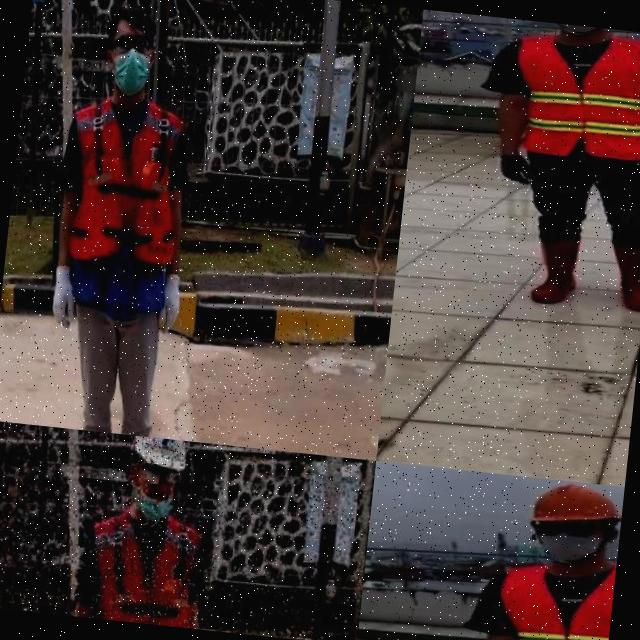boots: (524, 232, 582, 306), (601, 237, 640, 311)
helmet: (522, 476, 624, 530), (126, 434, 193, 470)
vest: (52, 88, 188, 320), (506, 29, 640, 164), (86, 509, 210, 629), (492, 553, 616, 640)
